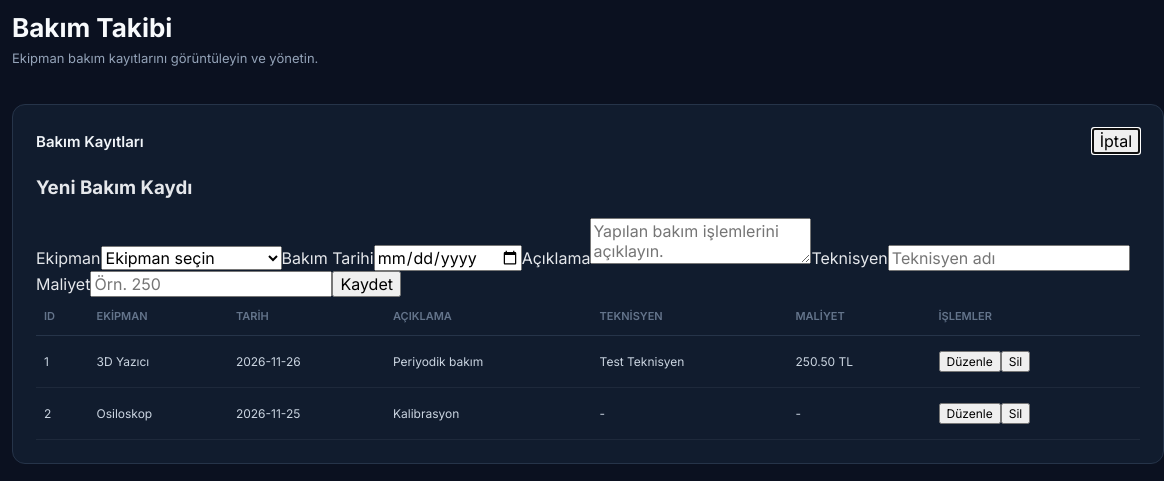
Maintenance component › resets the form when cancelled
Earlier steps of the test are not shown.
Step 1. Select "3D Yazıcı - PRN-001" in the dropdown labelled "Ekipman" → [191, 258], box [100,246,282,270]
Step 2. Type "2026-11-26" into the date field labelled "Bakım Tarihi" → [448, 258], box [374,245,522,271]
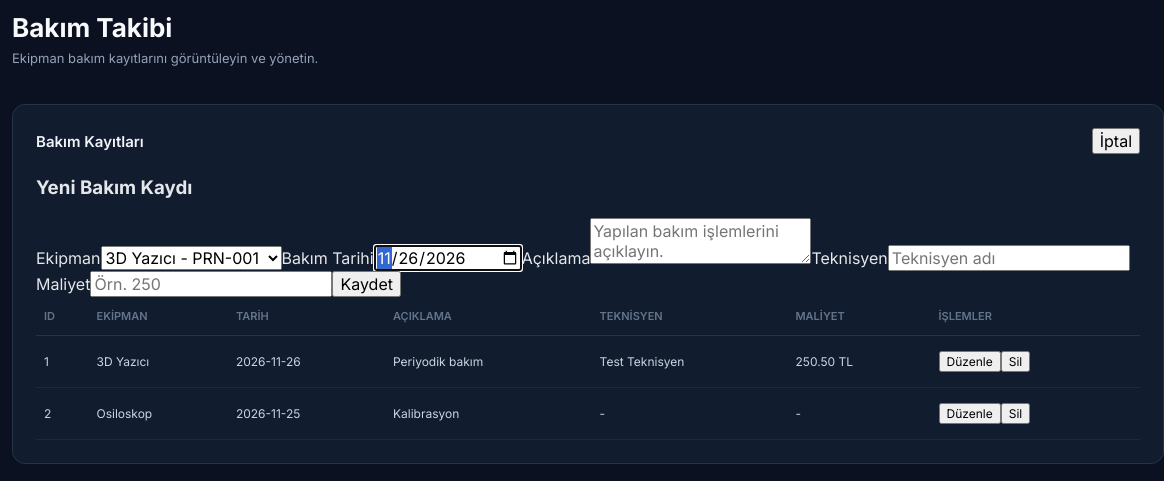
Step 3. Type "Yeni bakım işlemi" into the text box labelled "Açıklama" → [701, 241], box [590,218,811,264]
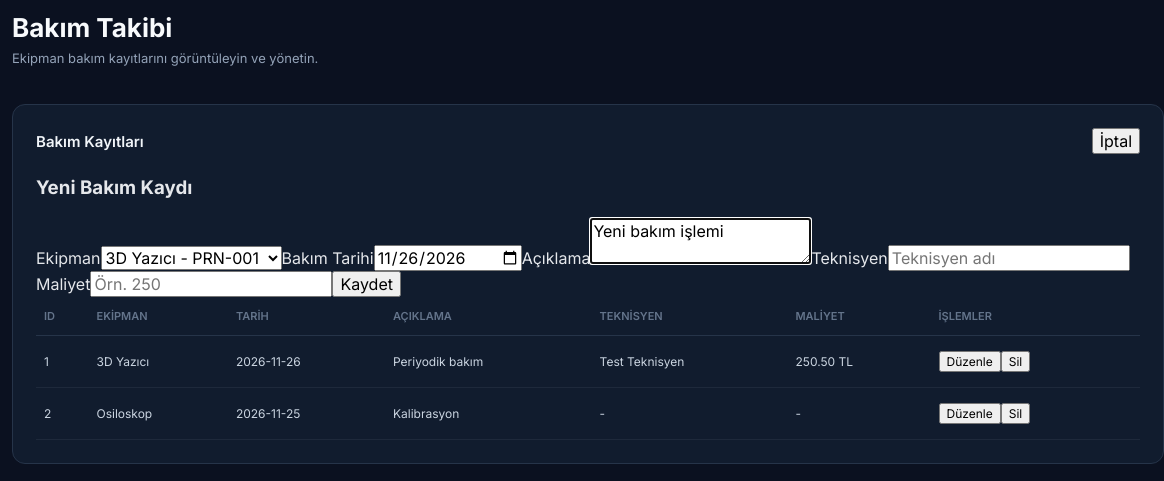
Step 4. Type "Test Teknisyen" into the field labelled "Teknisyen" → [1009, 258], box [888,245,1130,271]
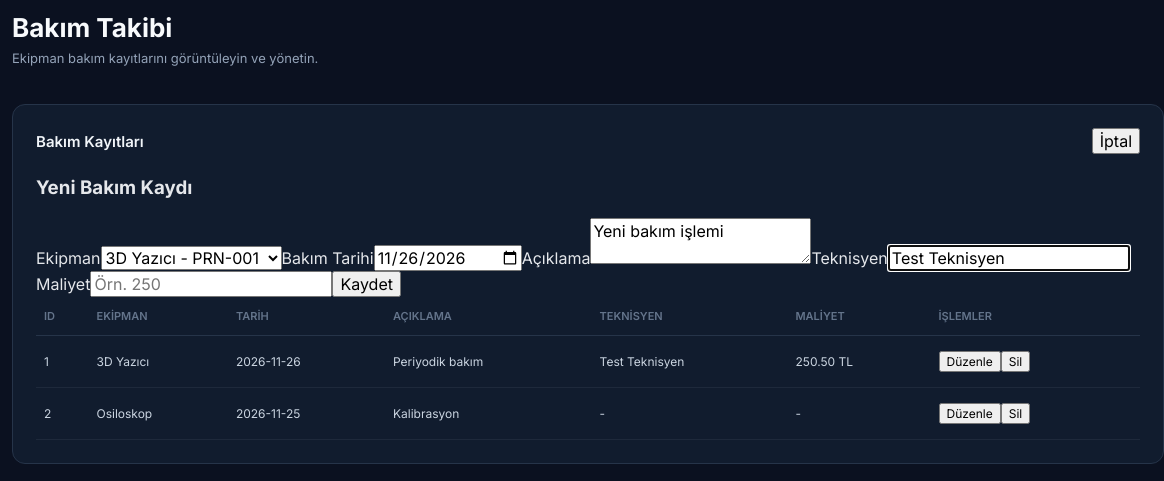
Step 5. Type "300.50" into the number field labelled "Maliyet" → [211, 284], box [90,271,332,297]
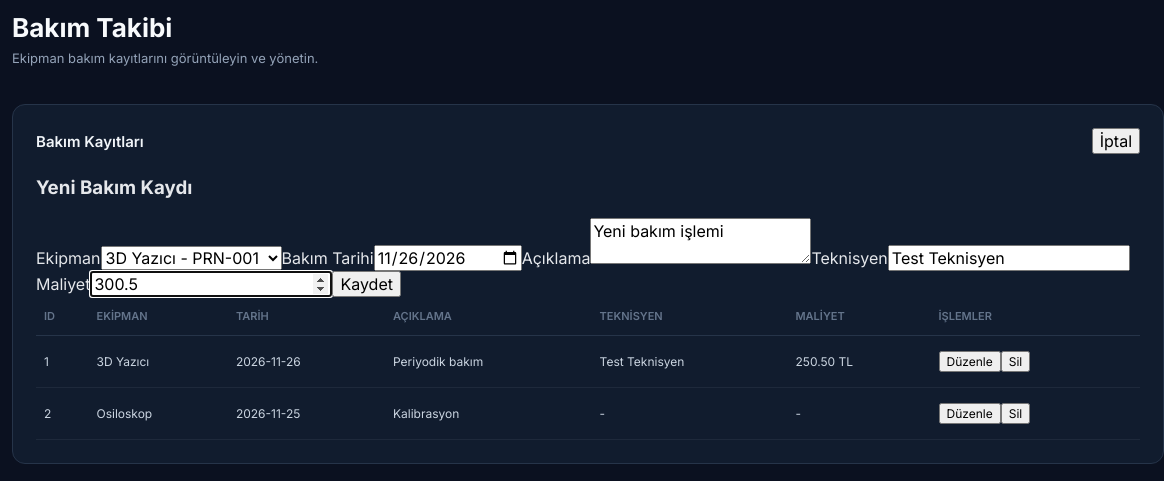
Step 6. Click the button "İptal" → [1116, 141], box [1092,128,1140,154]
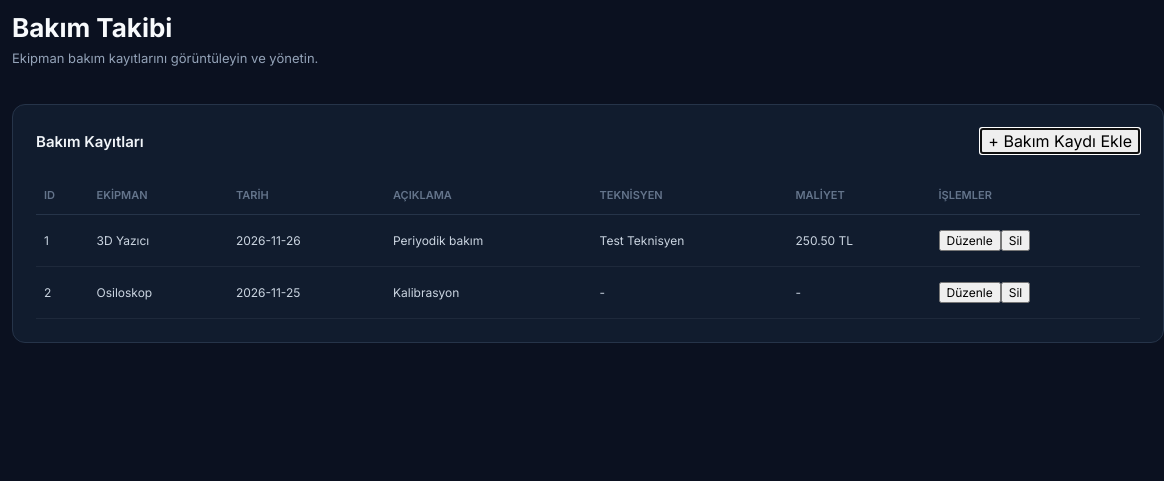
Expected: the label labelled "Açıklama" is gone
Step 7. Click the button "+ Bakım Kaydı Ekle" → [1060, 141], box [980,128,1140,154]
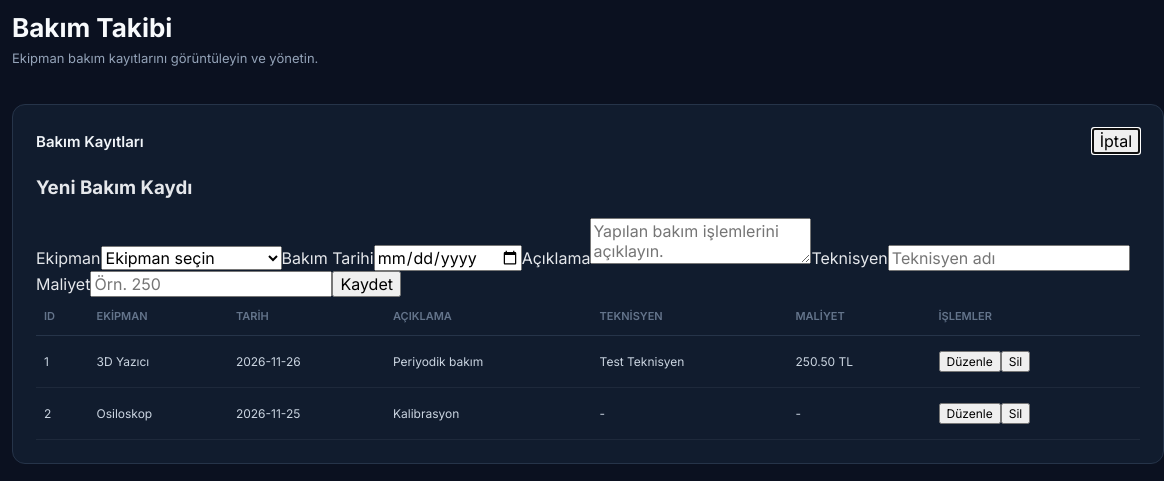
Expected: the dropdown labelled "Ekipman" shows "Ekipman seçin", [100,246,282,270]
Expected: the date field labelled "Bakım Tarihi" is empty, [374,245,522,271]
Expected: the text box labelled "Açıklama" is empty, [590,218,811,264]
